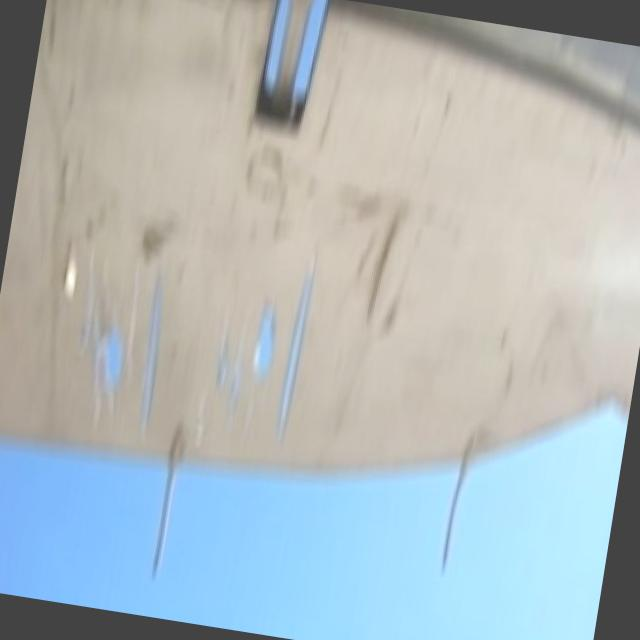crack: (60, 198, 334, 466)
